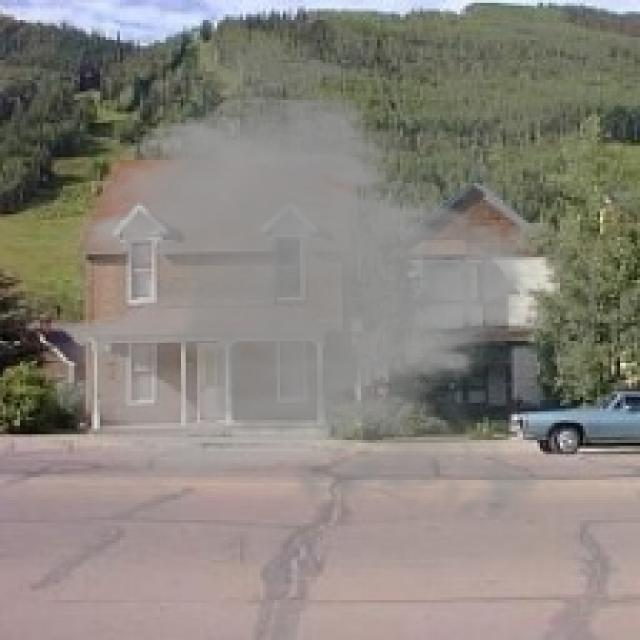smoke: (37, 23, 597, 537)
